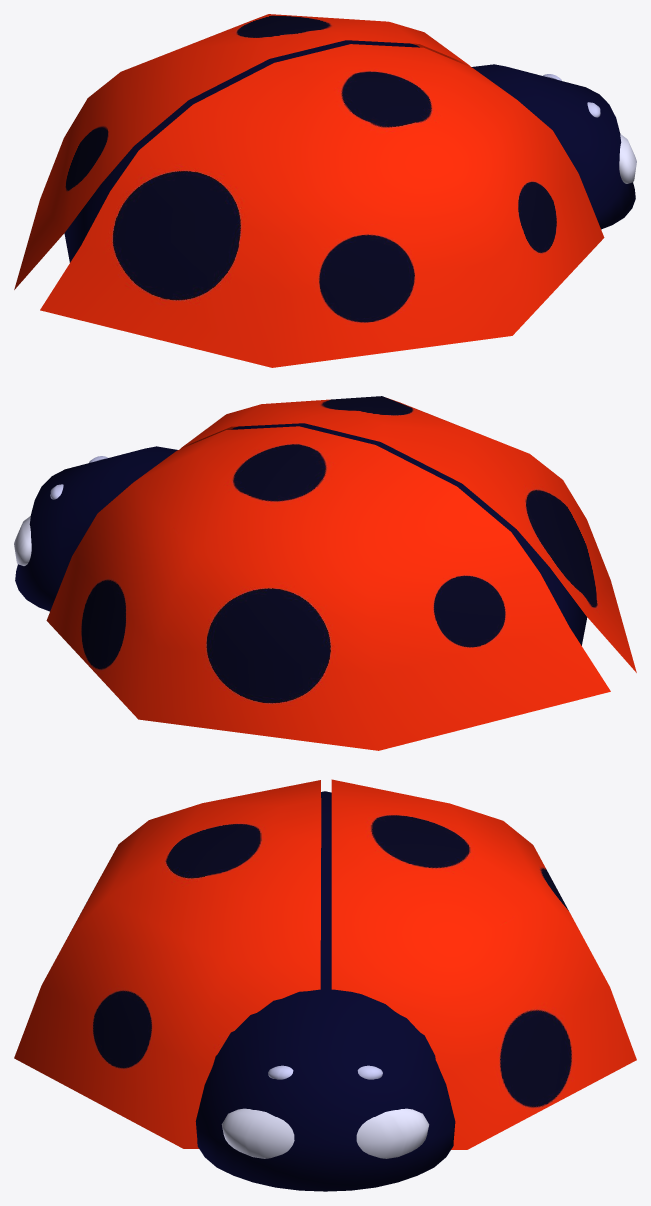
The model's file is BugBarianBug.fbx.
The picture shows the model from 3 angles, top to bottom: view 1: azimuth 30°, elevation 25°; view 2: azimuth 150°, elevation 25°; view 3: azimuth 270°, elevation 25°; orthographic projection. The views are drawn at different scales.
Parts seen in each view (by area): view 1: Sphere.003, Sphere.002, Sphere.001, Sphere, Sphere.004; view 2: Sphere.002, Sphere.003, Sphere.001, Sphere, Sphere.004; view 3: Sphere.003, Sphere.002, Sphere.001, Sphere.004, Sphere.
Part boxes in pixels (box(x1,y1,x2,y2)): Sphere.003: box(40, 44, 604, 367); Sphere.002: box(14, 14, 471, 289); Sphere.001: box(471, 64, 635, 229); Sphere: box(64, 40, 419, 262); Sphere.004: box(543, 74, 636, 183); Sphere.002: box(46, 426, 610, 750); Sphere.003: box(180, 396, 636, 672); Sphere.001: box(15, 446, 177, 611); Sphere: box(231, 423, 587, 645); Sphere.004: box(14, 456, 107, 565); Sphere.003: box(14, 780, 321, 1148); Sphere.002: box(331, 779, 636, 1149); Sphere.001: box(195, 979, 455, 1191); Sphere.004: box(221, 1065, 429, 1158); Sphere: box(320, 791, 331, 979).
Size of the model in its own units: 123 by 44.38 by 104.
5 materials, 5 textured.
